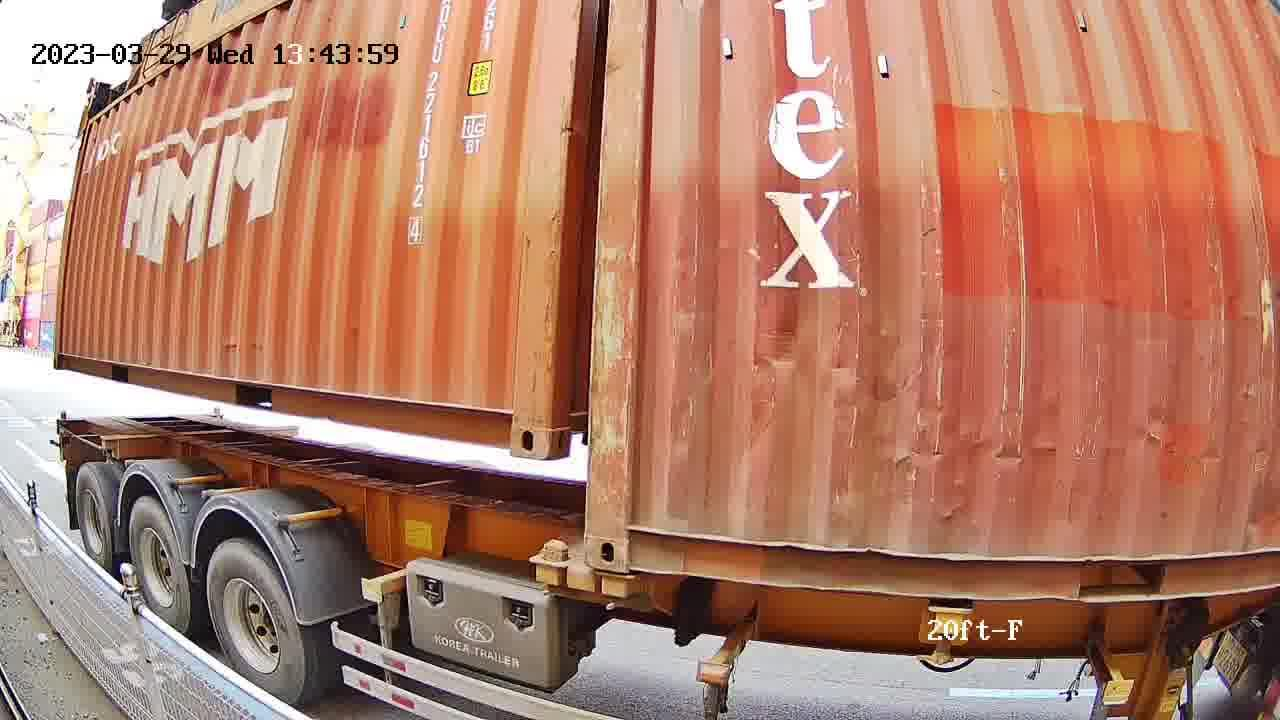Cone: (534, 535, 573, 595), (597, 571, 631, 612)
Hole_L: (588, 503, 669, 575), (549, 396, 589, 459)
Hole_R: (478, 389, 550, 460)
Tire: (208, 541, 305, 704), (129, 500, 188, 632), (74, 466, 111, 568)
